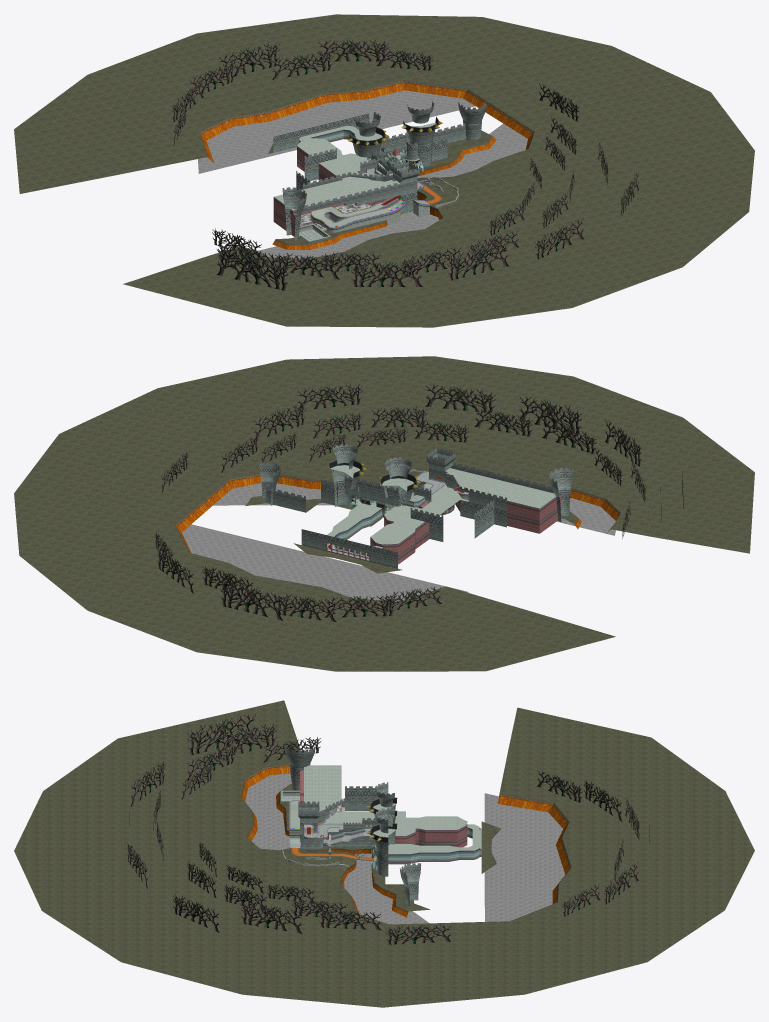
File: koopa_course_L.dae
3 renders of one model, top to bottom at view 1: azimuth 30°, elevation 25°; view 2: azimuth 150°, elevation 25°; view 3: azimuth 270°, elevation 25°, orthographic.
Parts seen in each view (by area): view 1: n4b1, n2b0, n6b9, n5b5, n8b7, n10b6, n9b4, n7b3; view 2: n4b1, n2b0, n5b5, n6b9, n10b6, n8b7, n9b4, n7b3; view 3: n4b1, n2b0, n6b9, n5b5, n10b6, n7b3, n9b4, n8b7.
Part boxes in pixels (x1,y1,x2,y2): n4b1: (14,14,754,327); n2b0: (171,40,638,290); n6b9: (198,90,527,258); n5b5: (273,101,486,240); n8b7: (273,138,405,243); n10b6: (274,138,399,210); n9b4: (299,122,435,227); n7b3: (299,129,458,227); n4b1: (14,356,754,671); n2b0: (155,383,683,621); n5b5: (259,444,573,568); n6b9: (182,483,615,601); n10b6: (370,468,555,544); n8b7: (370,471,560,564); n9b4: (327,465,468,560); n7b3: (303,469,453,568); n4b1: (14,700,754,1007); n2b0: (127,713,649,944); n6b9: (245,773,565,924); n5b5: (284,745,421,905); n10b6: (304,765,467,835); n7b3: (281,802,481,870); n9b4: (290,801,481,854); n8b7: (281,770,467,847).
Bounding box in the file's own units: 203622 × 20302 × 207414.
